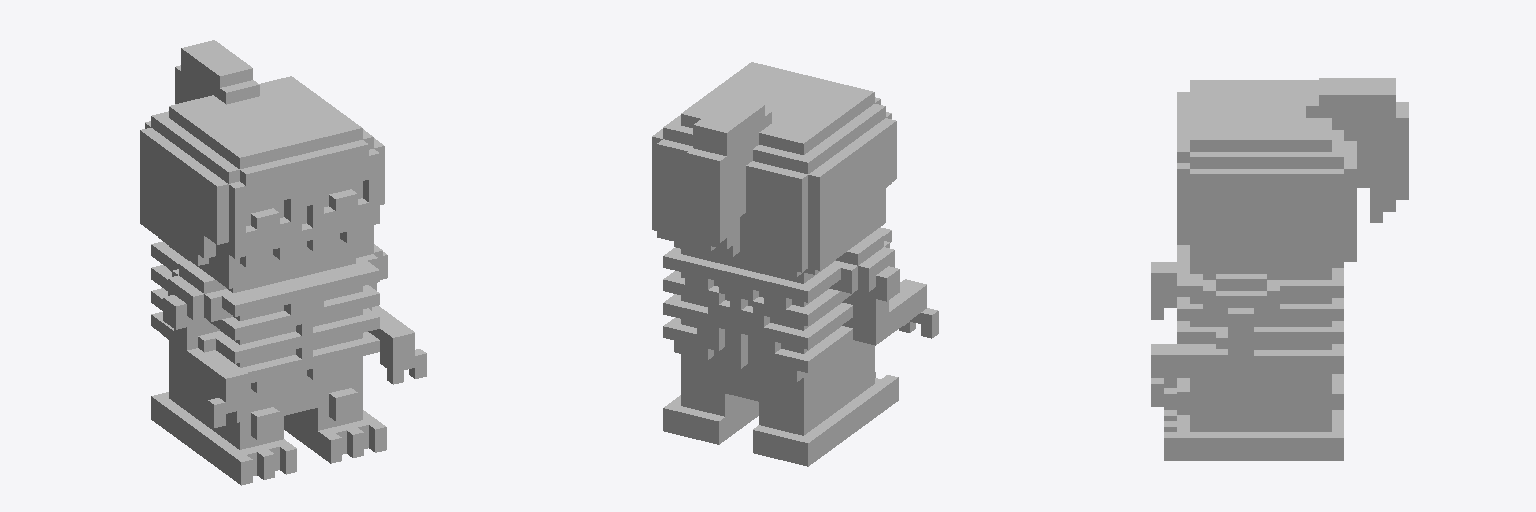
File: Package 01 Necro Dungeon-19.obj
The picture shows the model from 3 angles: view 1: azimuth 30°, elevation 25°; view 2: azimuth 150°, elevation 25°; view 3: azimuth 270°, elevation 25°; orthographic projection.
Parts seen in each view (by area): view 1: object 1; view 2: object 1; view 3: object 1.
Boxes of the visible parts, box(x1,y1,x2,y2) form: object 1: box(140, 40, 426, 485); object 1: box(652, 62, 938, 466); object 1: box(1151, 78, 1408, 460).
Size of the model in its own units: 1.9 by 2.9 by 2.